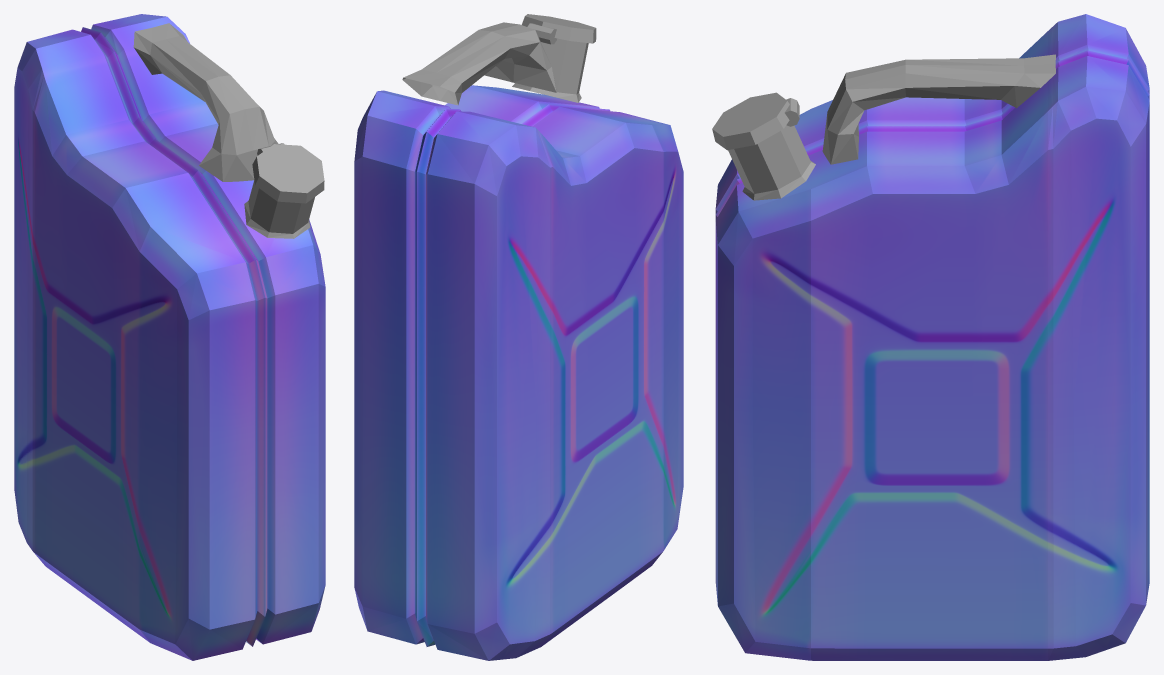
File: jerry.obj
3 renders of one model, left to right at view 1: azimuth 30°, elevation 25°; view 2: azimuth 150°, elevation 25°; view 3: azimuth 270°, elevation 25°, orthographic. The views are drawn at different scales.
Visible parts, largest first — view 1: jerry_l_Cube.008, Cube.002_Cube.005, Cube.000_Cube.004; view 2: jerry_l_Cube.008, Cube.002_Cube.005, Cube.000_Cube.004; view 3: jerry_l_Cube.008, Cube.002_Cube.005, Cube.000_Cube.004.
Part boxes in pixels (x1,y1,x2,y2): jerry_l_Cube.008: (14, 14, 325, 660); Cube.002_Cube.005: (133, 23, 278, 181); Cube.000_Cube.004: (244, 143, 324, 238); jerry_l_Cube.008: (354, 85, 683, 660); Cube.002_Cube.005: (402, 22, 556, 105); Cube.000_Cube.004: (512, 14, 596, 102); jerry_l_Cube.008: (715, 14, 1149, 660); Cube.002_Cube.005: (822, 54, 1055, 164); Cube.000_Cube.004: (712, 92, 815, 200).
Size of the model in its own units: 0.5301 by 1.55 by 1.06.
Materials: 2 (1 with a texture image).
